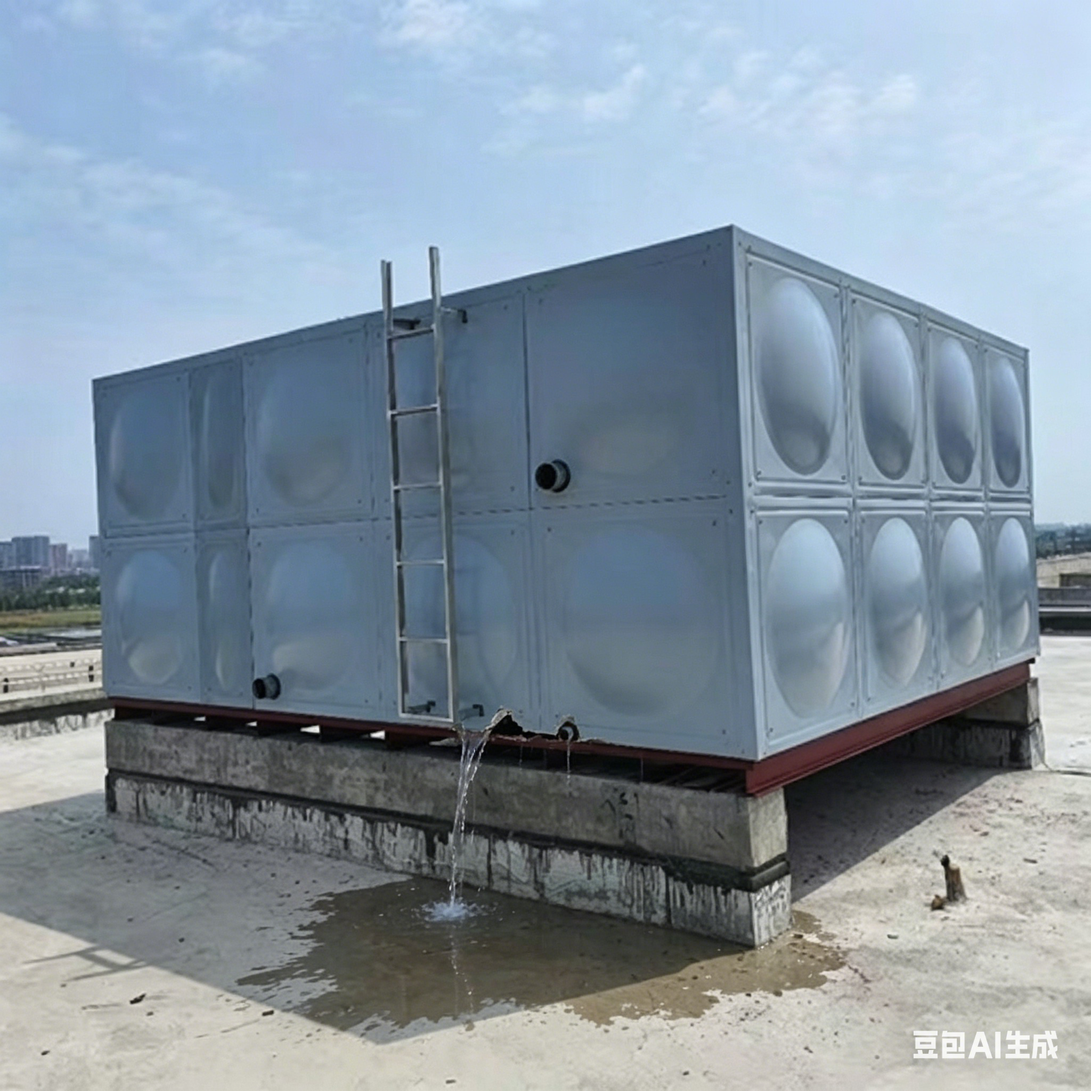Leakage: (541, 913, 822, 1011), (433, 706, 517, 1027), (311, 882, 425, 1025)
